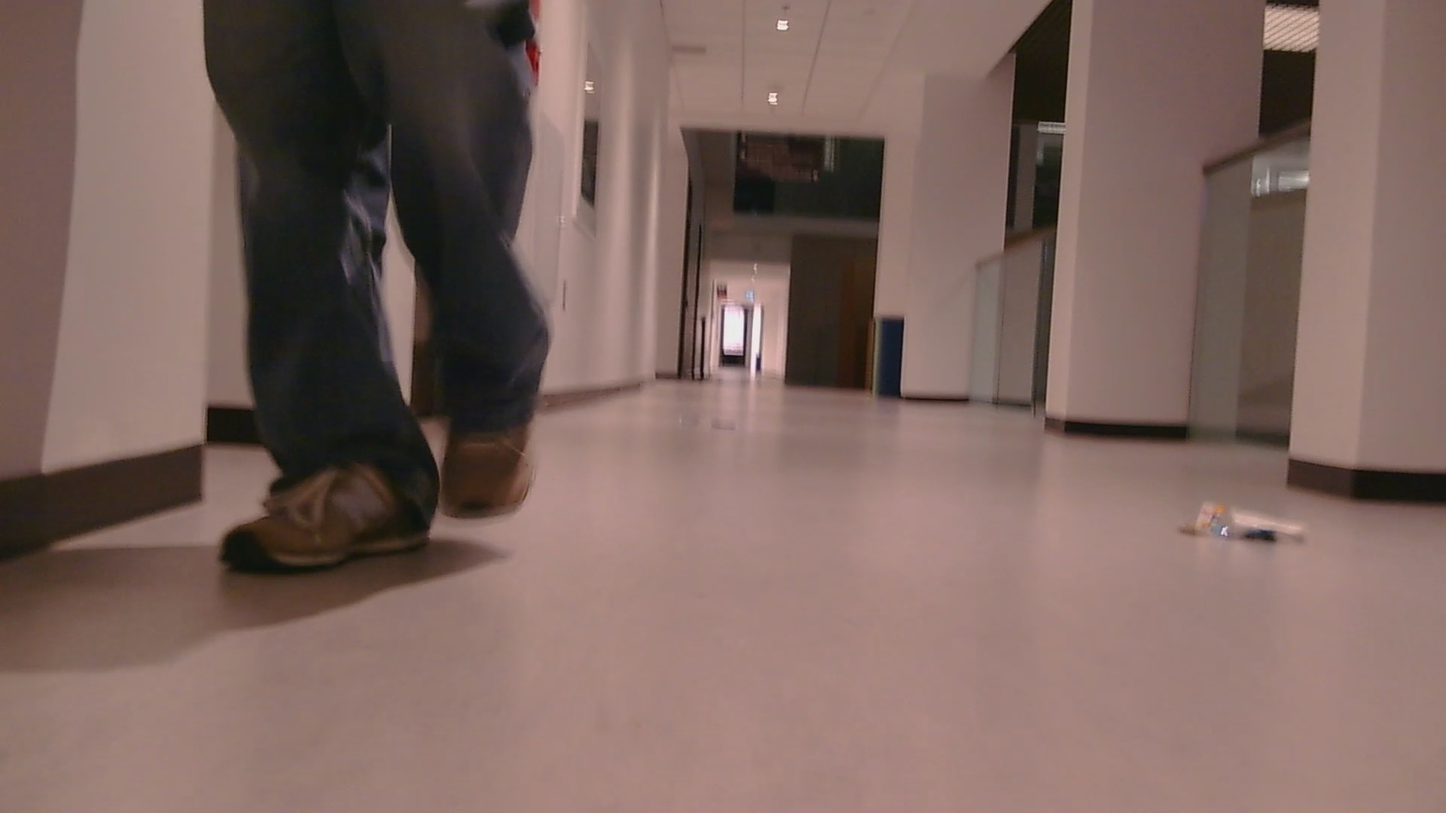carton: (1188, 488, 1321, 573), (714, 416, 741, 440), (685, 406, 703, 421)
